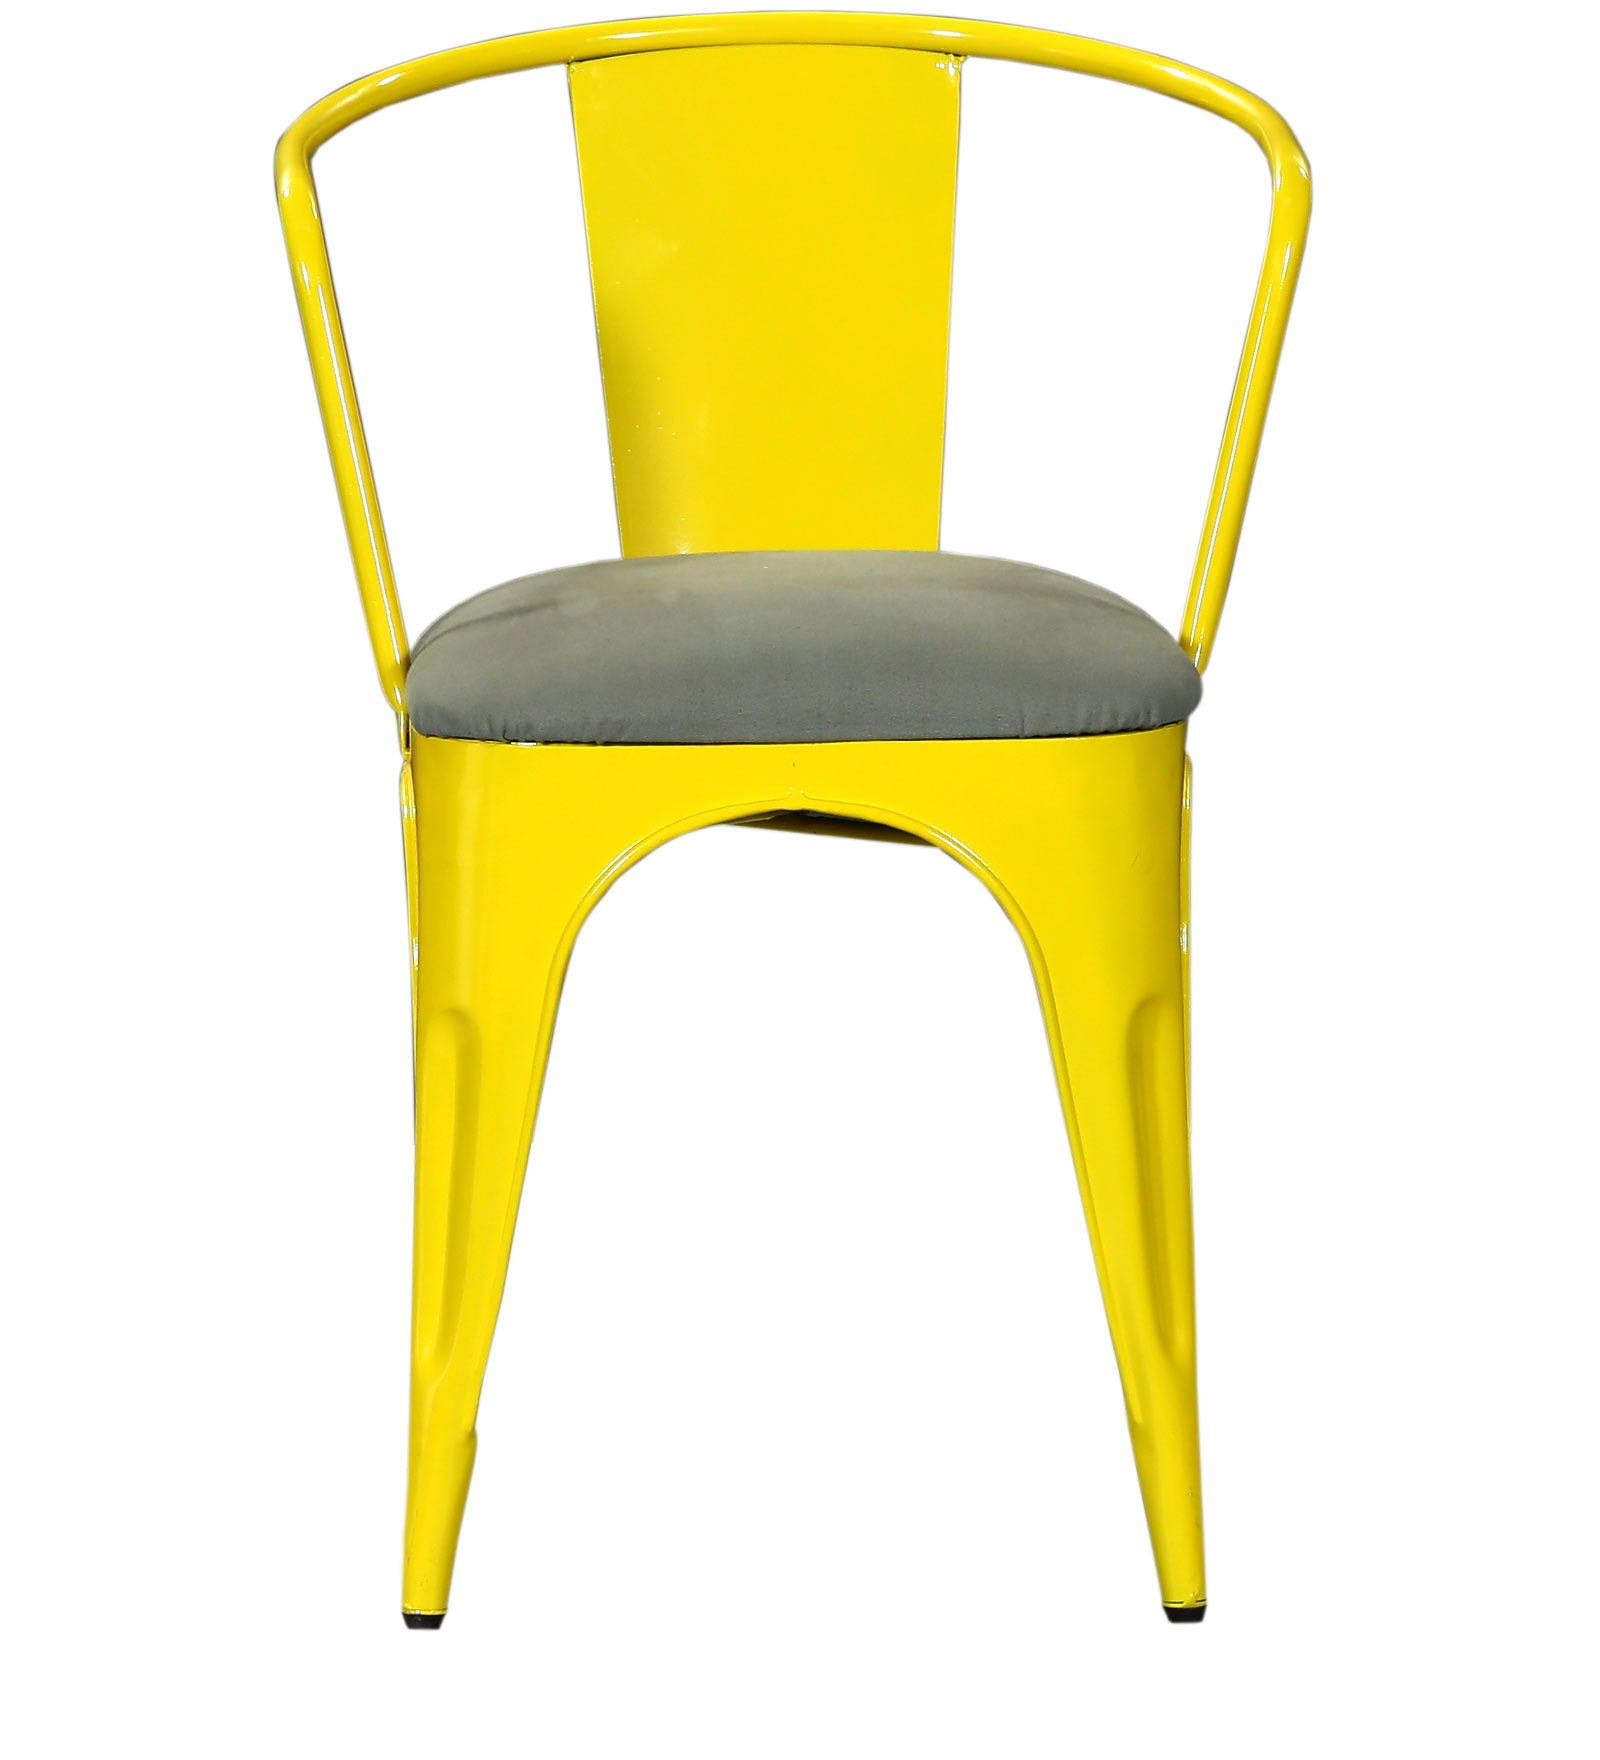Danlou Metal Chair with Cushion in Yellow Color by Bohemiana: (202, 17, 1338, 1656)
